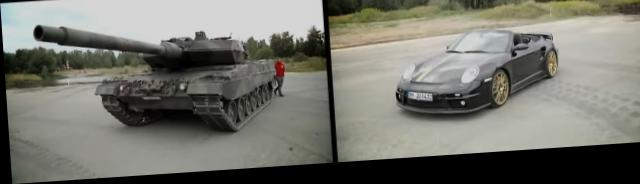tank: (102, 44, 273, 131)
